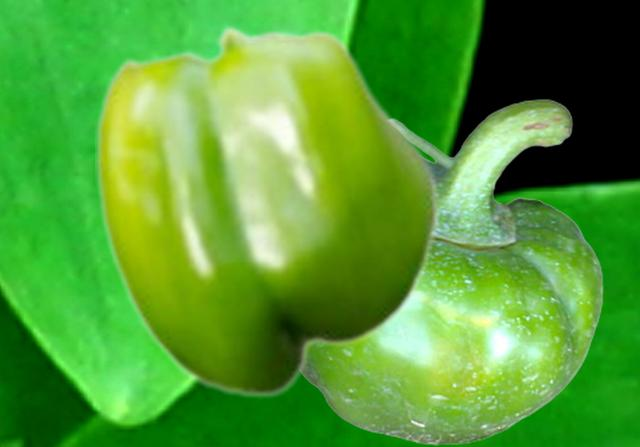bell_pepper: (95, 25, 439, 398), (302, 98, 602, 444)
